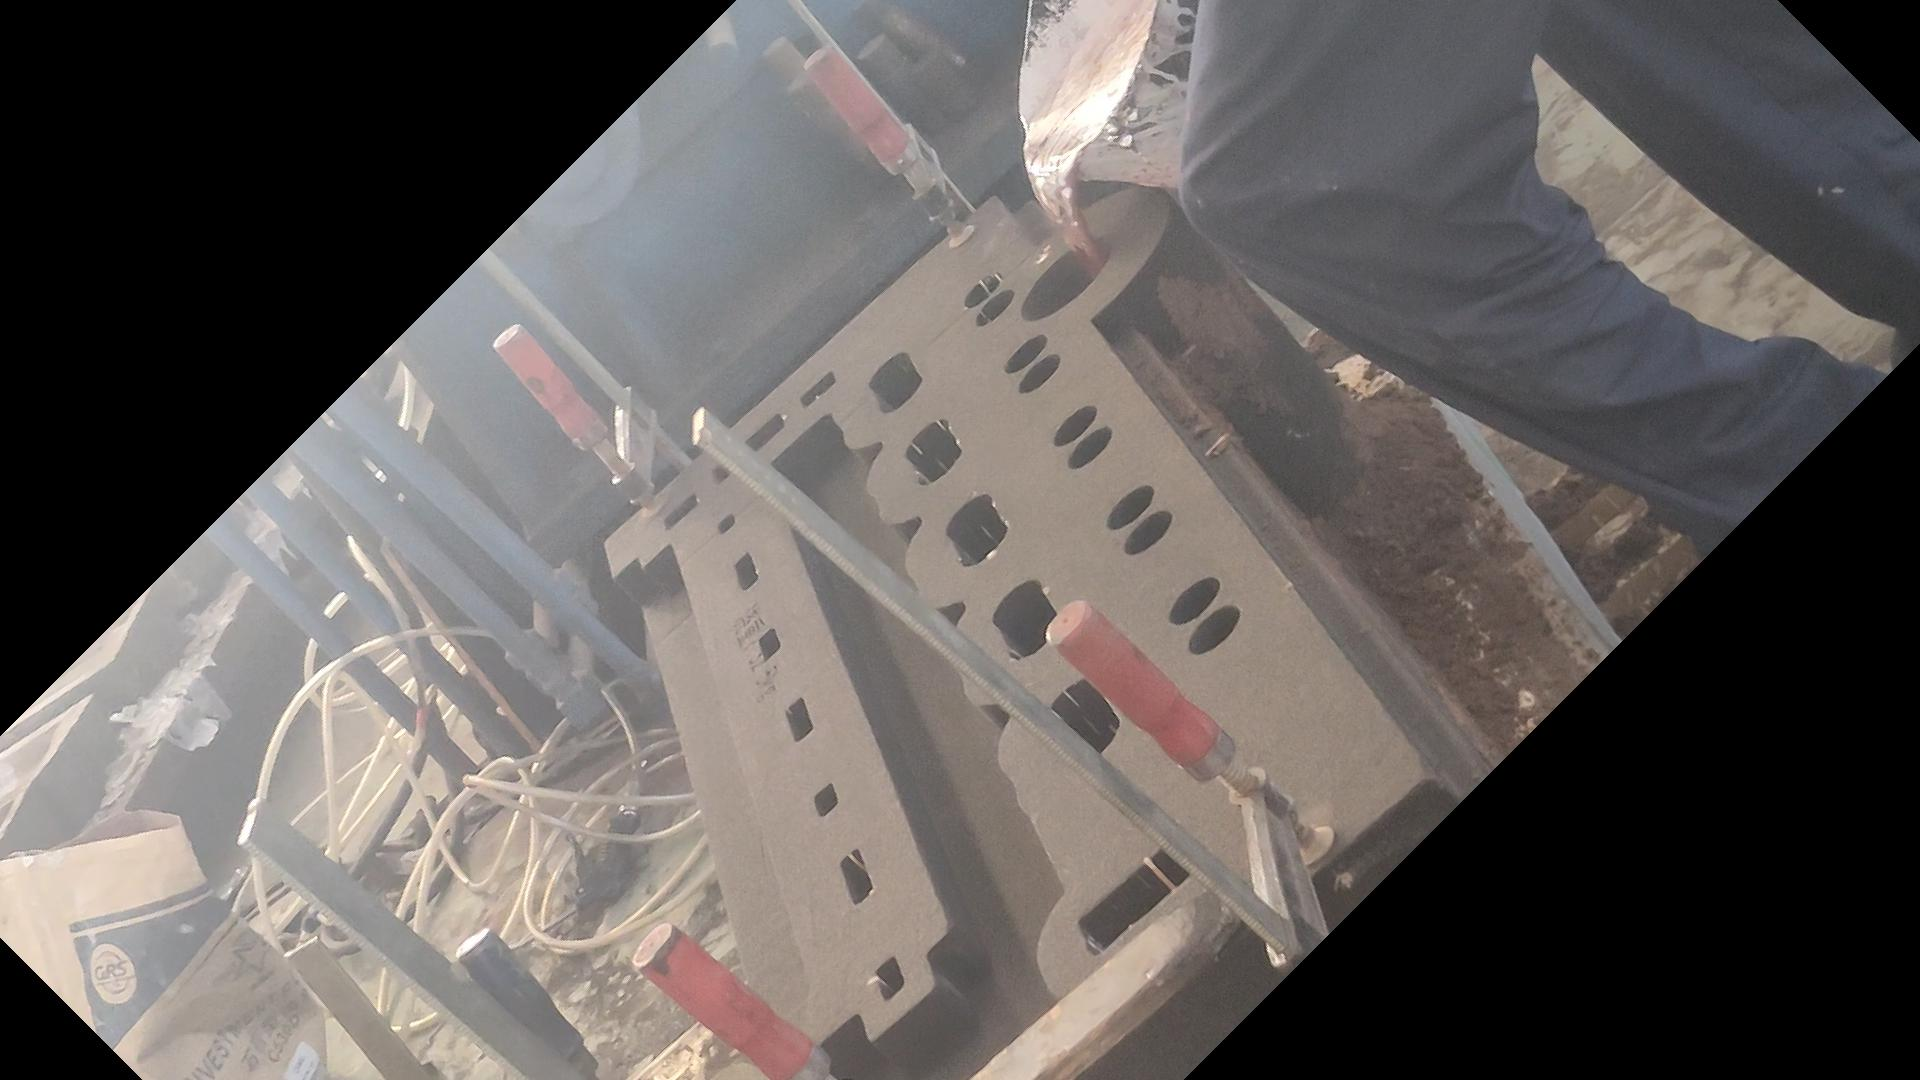pouring hole: (1021, 235, 1108, 320)
